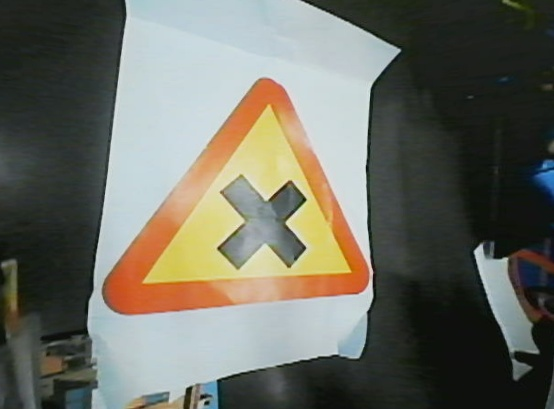junction: (96, 54, 383, 322)
